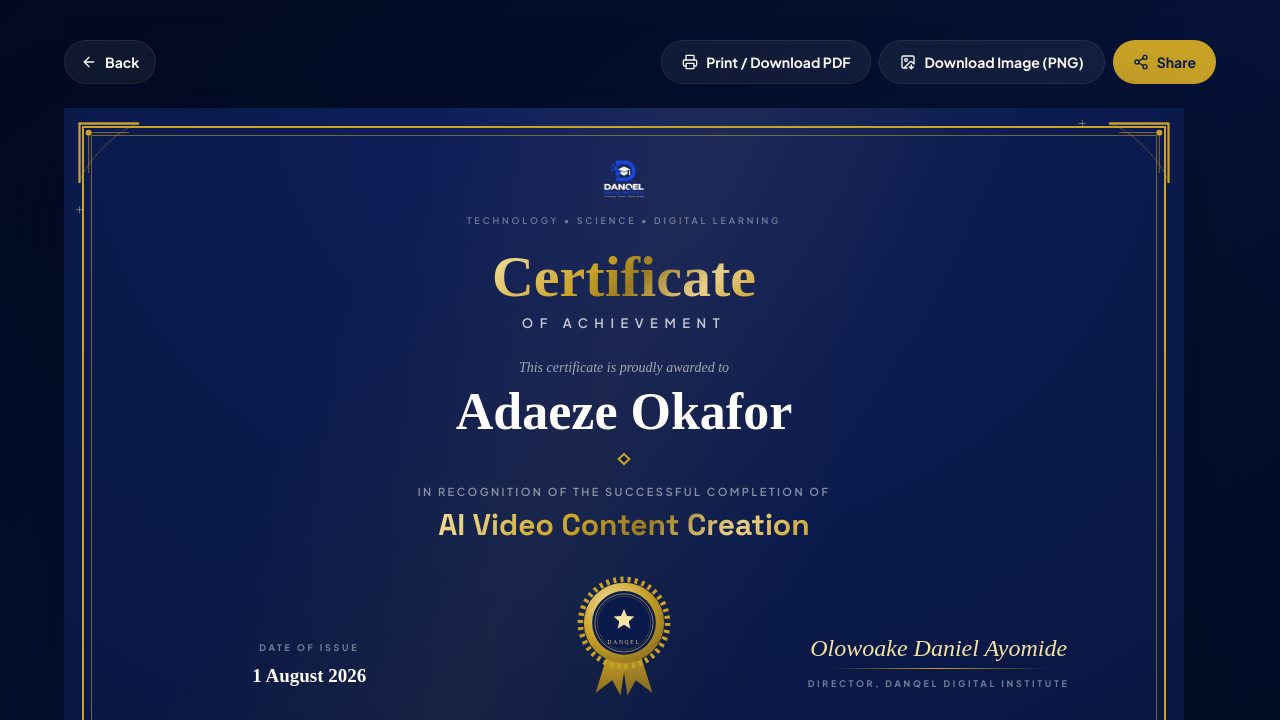
Test: Certificate page download action › adds a third action and exports only the certificate card
Click the button "Download Image (PNG)": {"x": 992, "y": 62} [880, 40, 1105, 84]
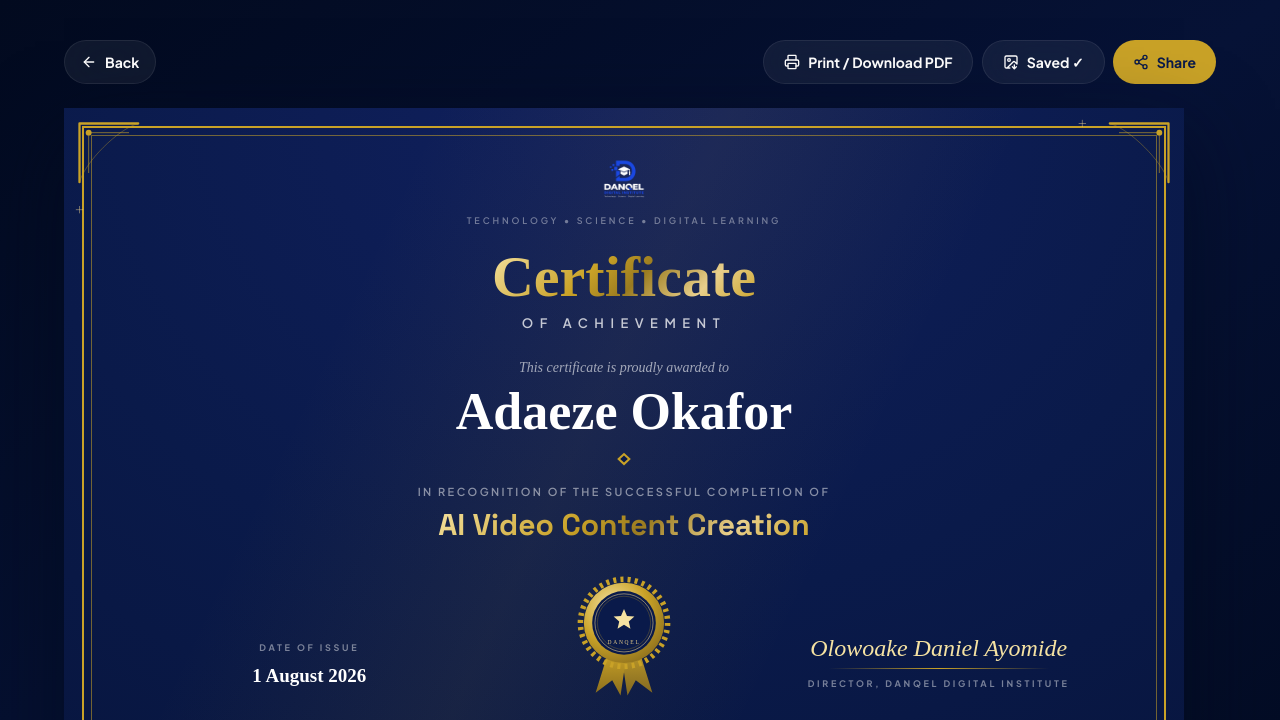
Check: the 5th icon is shown, box [74, 118, 184, 228]
Check: the text "Saved ✓" is shown, box [1027, 52, 1084, 72]
